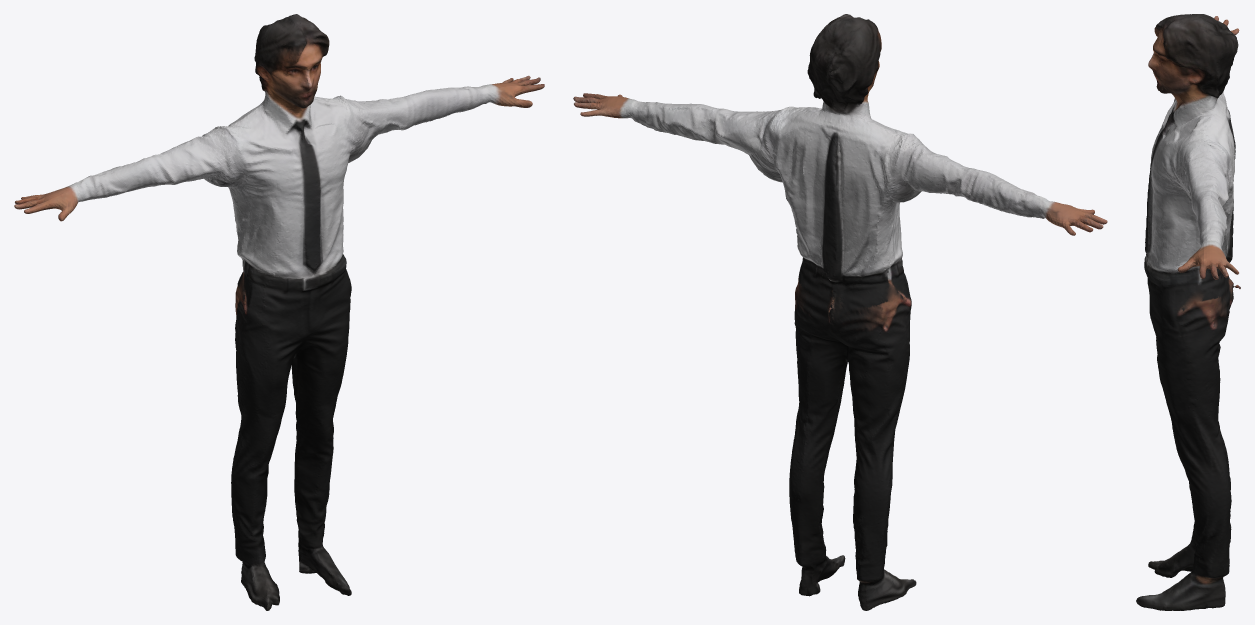
Rendered from animation_lowres.obj.
The picture shows the model from 3 angles, left to right: view 1: azimuth 30°, elevation 25°; view 2: azimuth 150°, elevation 25°; view 3: azimuth 270°, elevation 25°; orthographic projection.
Size of the model in its own units: 1.77 by 1.82 by 0.3001.
